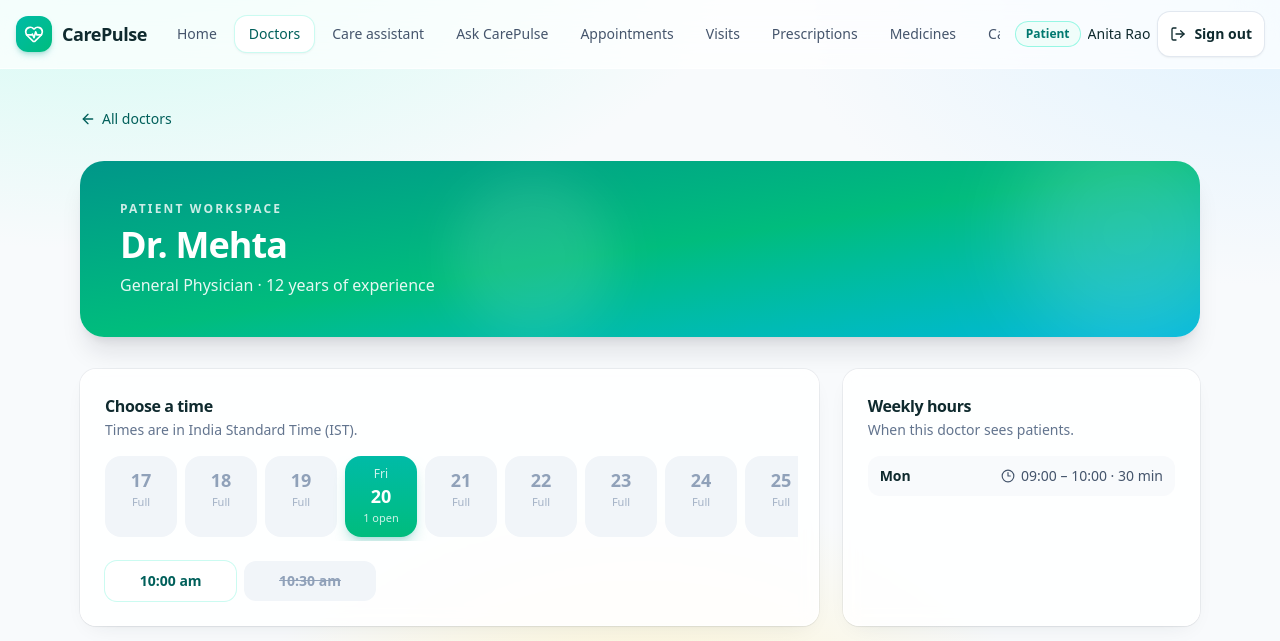
Test: clinical flows › books a doctor with symptoms only, after an explicit review and confirmation
Click the button with aria-label "10:00 am, available" at (171, 580), box [105,560,236,600]
(page scrolled)
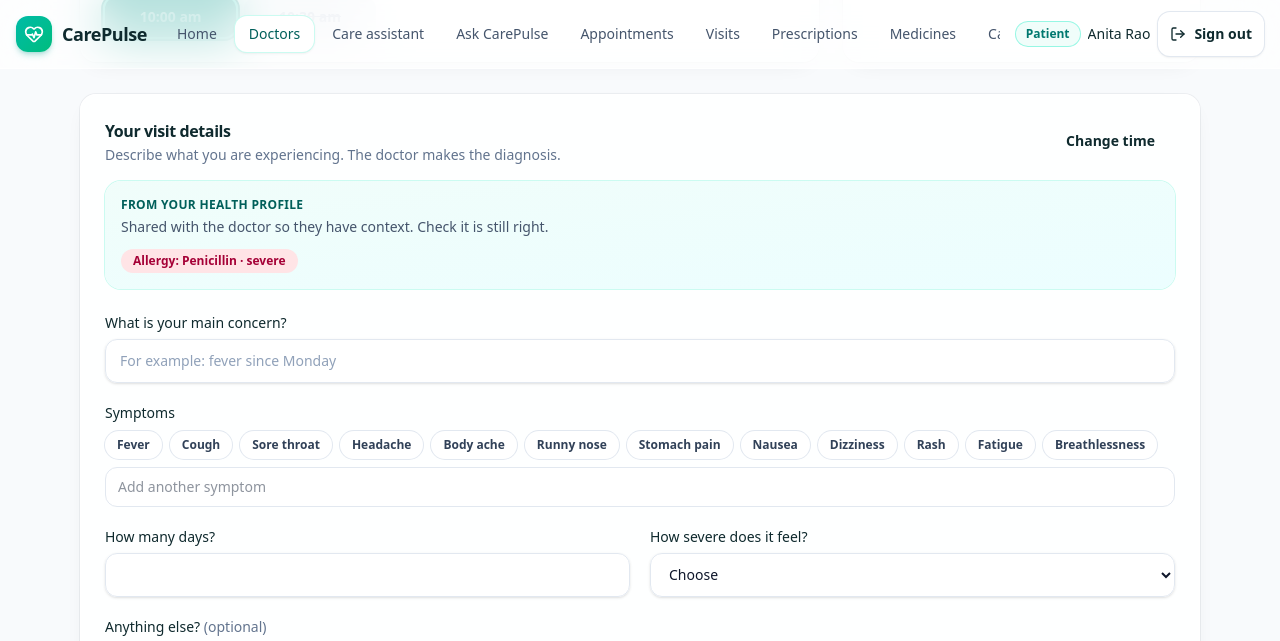
Expected: the text "Allergy: Penicillin · severe" is shown, [121,248,298,272]
Type "Fever for two days" into the field labelled "What is your main concern?" at (640, 360), box [105,338,1175,382]
Click the button "Fever" at (133, 444), box [105,430,162,458]
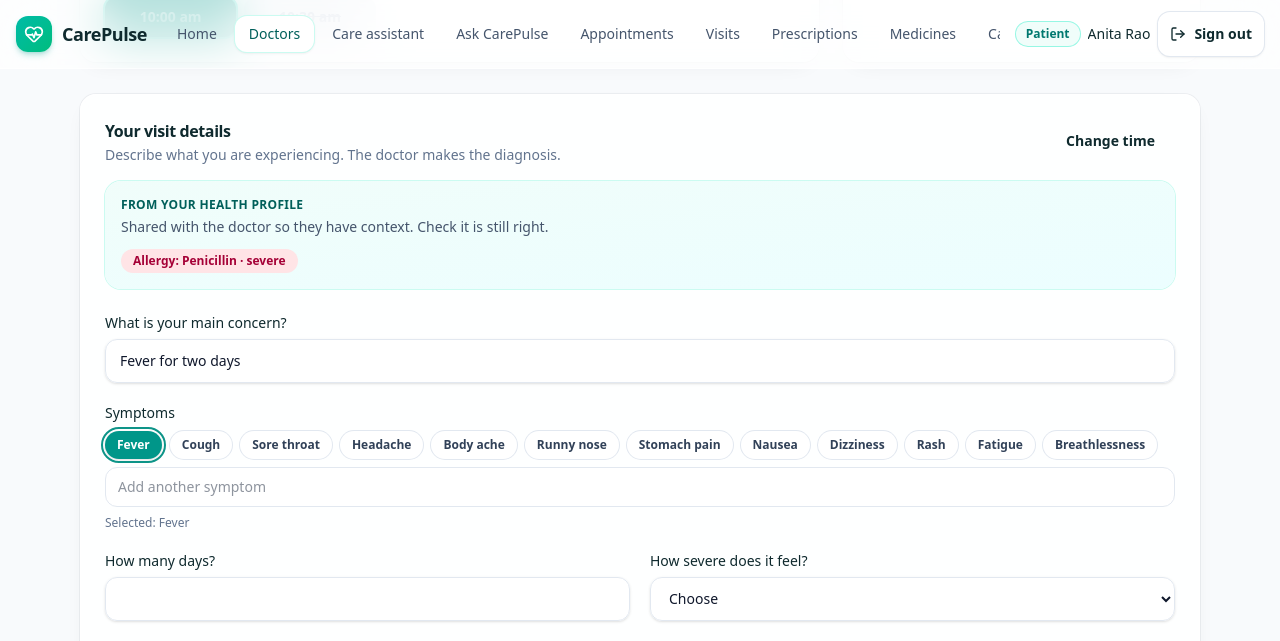
Type "2" into the number field labelled "How many days?" at (368, 598), box [105,576,630,620]
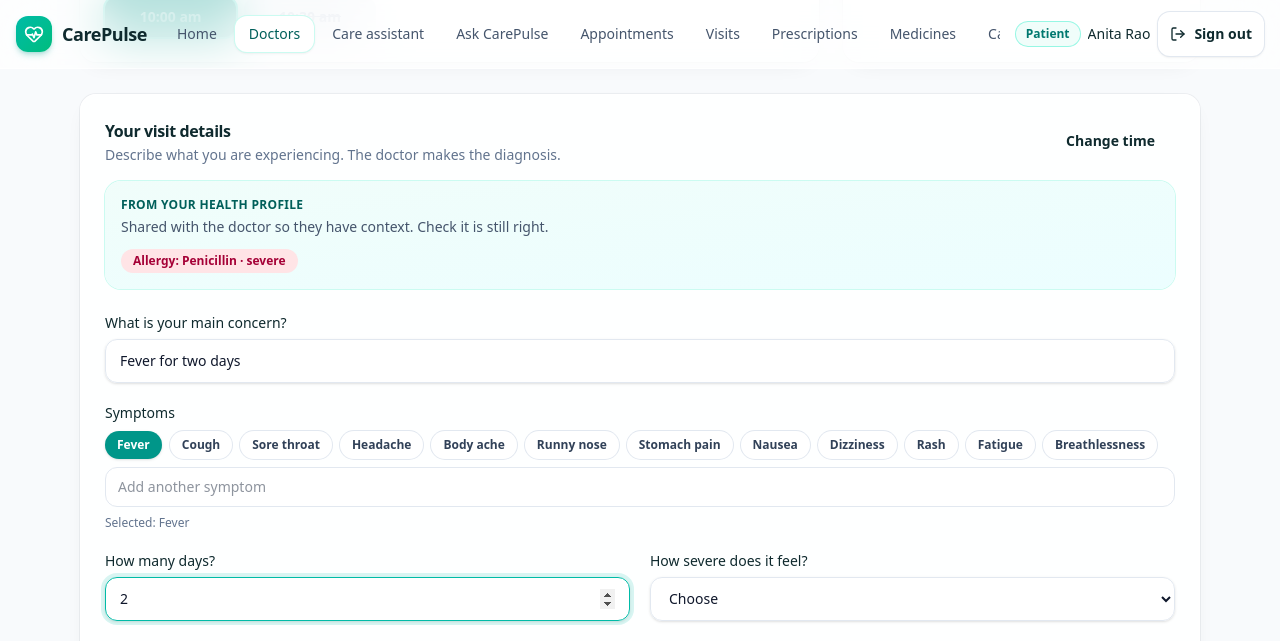
Select "Moderate" in the dropdown labelled "How severe does it feel?" at (912, 598), box [650,576,1175,620]
(page scrolled)
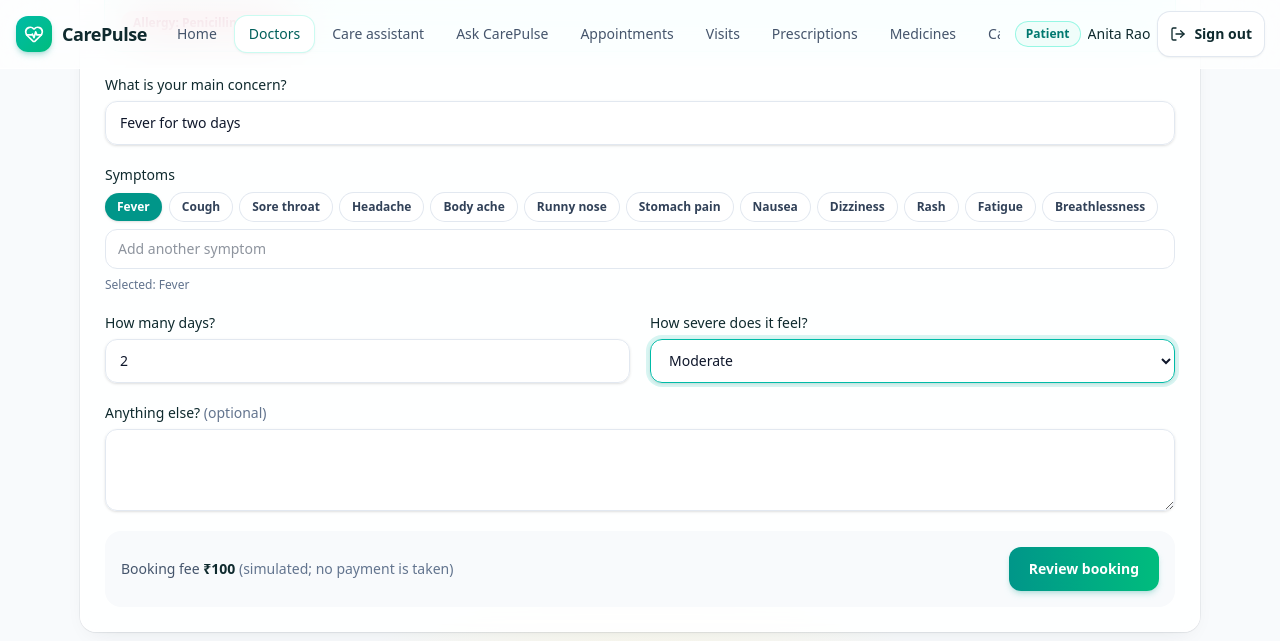
Click the button "Review booking" at (1084, 568), box [1009,546,1159,590]
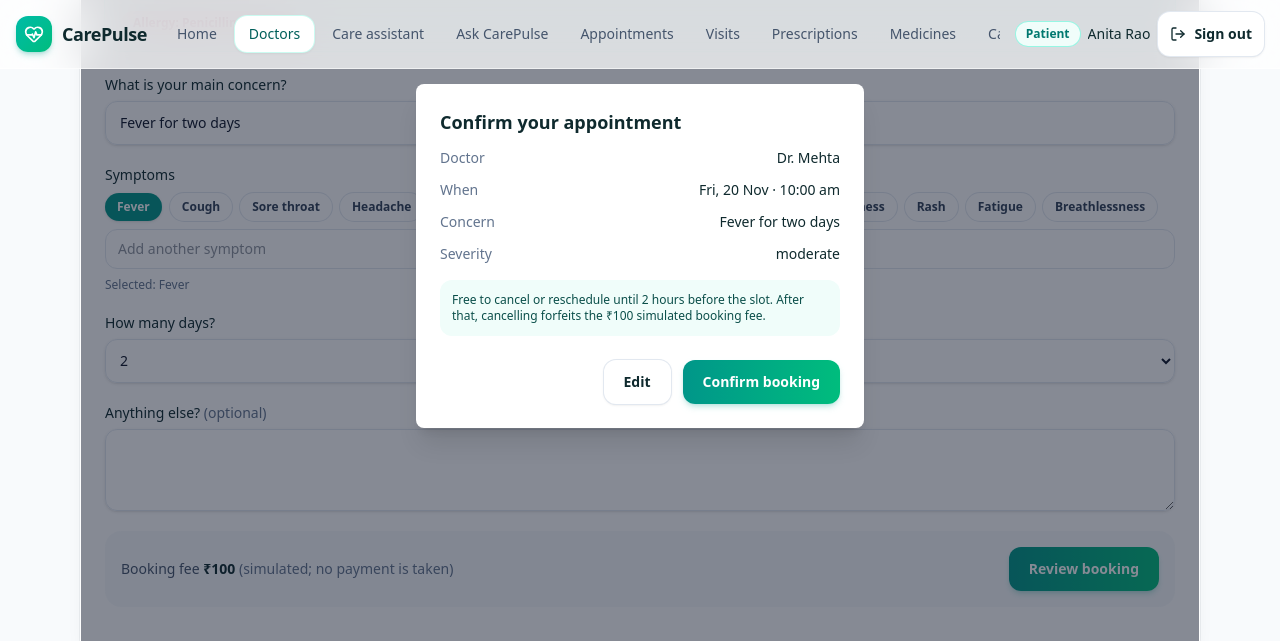
Expected: the text "Fever for two days" is shown, [720,212,840,232]
Click the button "Confirm booking" at (761, 382), box [683,360,840,404]
(page scrolled)
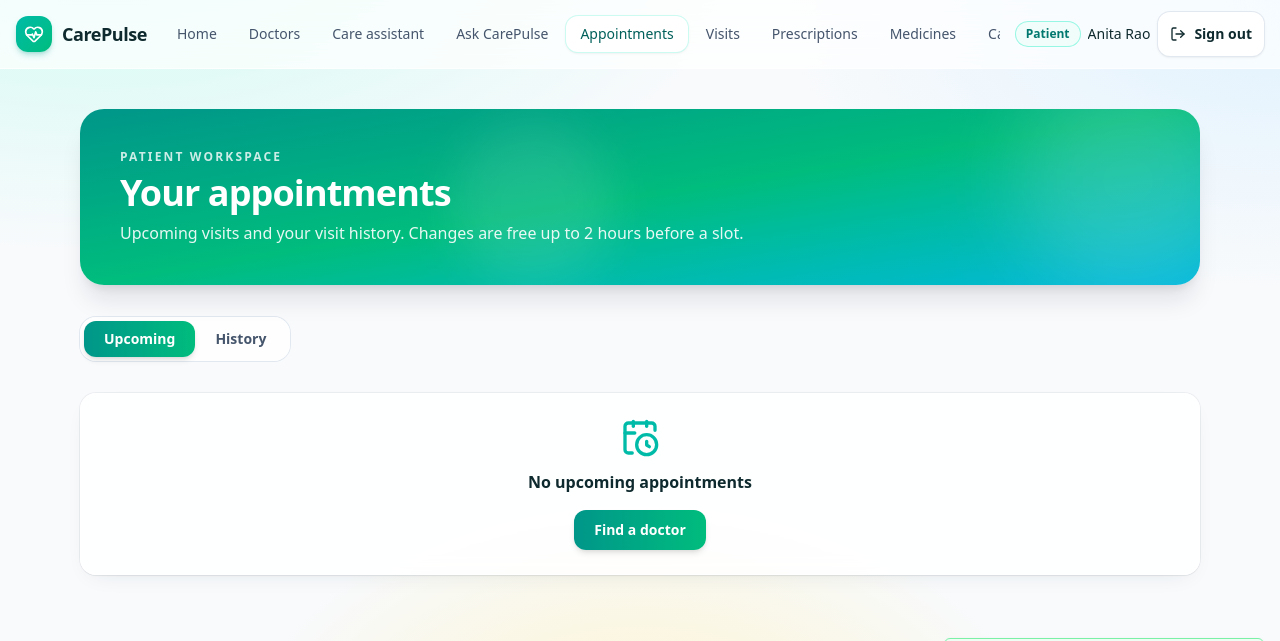
Expected: the heading "Your appointments" is shown, [120,168,451,217]
